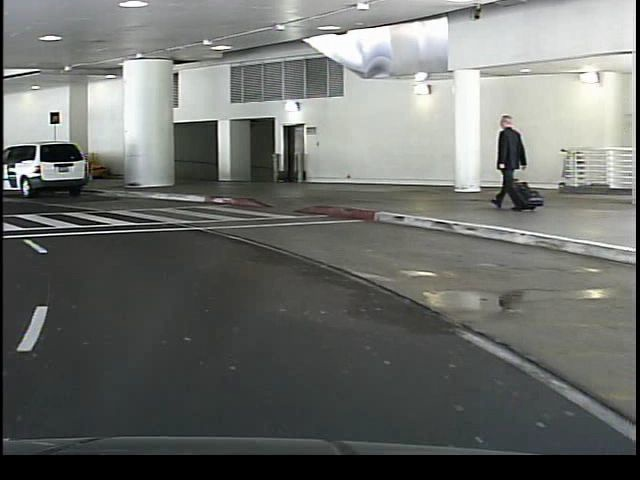person: (484, 109, 521, 214)
